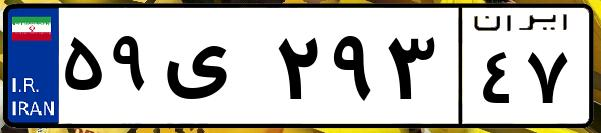2: (270, 28, 330, 110)
3: (385, 28, 445, 110)
4: (475, 38, 525, 113)
5: (57, 26, 110, 100)
7: (525, 38, 570, 115)
9: (330, 28, 385, 110), (110, 28, 158, 98)
ی: (158, 20, 270, 120)
